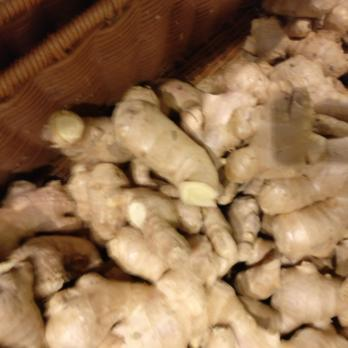Ginger: (0, 179, 348, 348), (45, 99, 348, 177), (246, 0, 348, 106), (133, 75, 256, 112)
